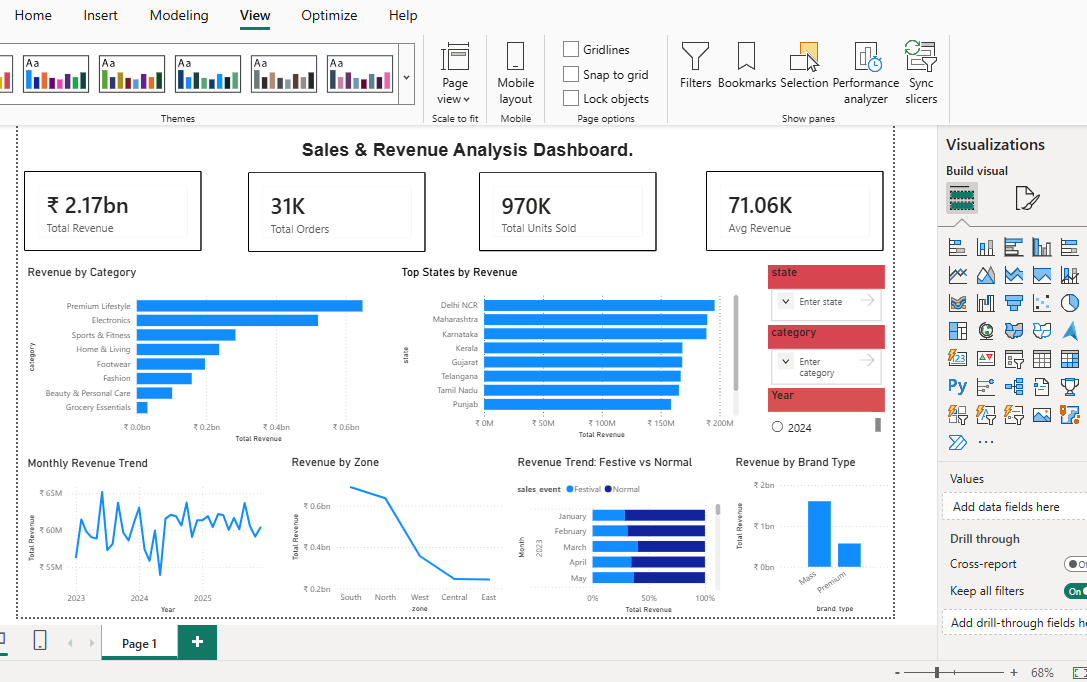

Layout of this report page (visuals, bound fields, positions):
{"tool":"powerbi","page":{"name":"Page 1","canvas":[1280,720],"ordinal":0},"visuals":[{"type":"cardVisual","fields":{"Data":["indian_ecommerce_pricing_revenue_growth_36_months.Total Revenue"]},"box":[8.6,67.3,260,117],"z":0},{"type":"cardVisual","fields":{"Data":["indian_ecommerce_pricing_revenue_growth_36_months.Total Orders"]},"box":[336.4,69,260.5,117.3],"z":1000},{"type":"cardVisual","fields":{"Data":["indian_ecommerce_pricing_revenue_growth_36_months.Total Units Sold"]},"box":[674.5,69,260.5,115.6],"z":2000},{"type":"cardVisual","fields":{"Data":["indian_ecommerce_pricing_revenue_growth_36_months.Average Revenue per Order"]},"box":[1007.4,67.3,260,117],"z":3000},{"type":"lineChart","title":"Monthly Revenue Trend","fields":{"Category":["indian_ecommerce_pricing_revenue_growth_36_months.order_date.Variation.Date Hierarchy.Year","indian_ecommerce_pricing_revenue_growth_36_months.order_date.Variation.Date Hierarchy.Month"],"Y":["indian_ecommerce_pricing_revenue_growth_36_months.Total Revenue"]},"box":[8.6,484.7,364,234.6],"z":4000},{"type":"clusteredBarChart","title":"Revenue by Category","fields":{"Category":["indian_ecommerce_pricing_revenue_growth_36_months.category"],"Y":["indian_ecommerce_pricing_revenue_growth_36_months.Total Revenue"]},"box":[8.6,205.3,546.8,263.9],"z":5000},{"type":"lineChart","title":"Revenue by Zone","fields":{"Category":["indian_ecommerce_pricing_revenue_growth_36_months.zone"],"Y":["indian_ecommerce_pricing_revenue_growth_36_months.Total Revenue"]},"box":[395,483,319.1,234.6],"z":6000},{"type":"clusteredBarChart","title":"Top States by Revenue","fields":{"Category":["indian_ecommerce_pricing_revenue_growth_36_months.state"],"Y":["indian_ecommerce_pricing_revenue_growth_36_months.Total Revenue"]},"box":[555.5,205.3,503.7,258.8],"z":7000},{"type":"lineStackedColumnComboChart","title":"Revenue by Brand Type","fields":{"Category":["indian_ecommerce_pricing_revenue_growth_36_months.brand_type"],"Y":["indian_ecommerce_pricing_revenue_growth_36_months.Total Revenue"]},"box":[1045.4,483,234.6,234.6],"z":8000},{"type":"hundredPercentStackedBarChart","title":"Revenue Trend: Festive vs Normal","fields":{"Category":["indian_ecommerce_pricing_revenue_growth_36_months.order_date.Variation.Date Hierarchy.Year","indian_ecommerce_pricing_revenue_growth_36_months.order_date.Variation.Date Hierarchy.Month"],"Y":["indian_ecommerce_pricing_revenue_growth_36_months.Total Revenue"],"Series":["indian_ecommerce_pricing_revenue_growth_36_months.sales_event"]},"box":[726.3,483,307.4,236.9],"z":9000},{"type":"textbox","box":[324.3,15.5,665.9,53.5],"z":10000},{"type":"textSlicer","fields":{"Values":["indian_ecommerce_pricing_revenue_growth_36_months.category"]},"box":[1096.9,292.3,171.3,92.4],"z":11000},{"type":"textSlicer","fields":{"Values":["indian_ecommerce_pricing_revenue_growth_36_months.state"]},"box":[1096.9,204.9,171.3,87.3],"z":12000},{"type":"listSlicer","fields":{"Values":["indian_ecommerce_pricing_revenue_growth_36_months.order_date.Variation.Date Hierarchy.Year"]},"box":[1097.1,384.7,170.8,79.4],"z":13000}]}

Visuals, with their boxes on the page's 1280x720 design canvas (x1, y1, x2, y2). These are canvas units, not pixel positions in the 1087x682 screenshot, which may show the page scaled, cropped or inside an application window:
cardVisual - indian_ecommerce_pricing_revenue_growth_36_months.Total Revenue: x1=9 y1=67 x2=269 y2=184
cardVisual - indian_ecommerce_pricing_revenue_growth_36_months.Total Orders: x1=336 y1=69 x2=597 y2=186
cardVisual - indian_ecommerce_pricing_revenue_growth_36_months.Total Units Sold: x1=674 y1=69 x2=935 y2=185
cardVisual - indian_ecommerce_pricing_revenue_growth_36_months.Average Revenue per Order: x1=1007 y1=67 x2=1267 y2=184
"Monthly Revenue Trend" lineChart: x1=9 y1=485 x2=373 y2=719
"Revenue by Category" clusteredBarChart: x1=9 y1=205 x2=555 y2=469
"Revenue by Zone" lineChart: x1=395 y1=483 x2=714 y2=718
"Top States by Revenue" clusteredBarChart: x1=556 y1=205 x2=1059 y2=464
"Revenue by Brand Type" lineStackedColumnComboChart: x1=1045 y1=483 x2=1280 y2=718
"Revenue Trend: Festive vs Normal" hundredPercentStackedBarChart: x1=726 y1=483 x2=1034 y2=720
textbox: x1=324 y1=16 x2=990 y2=69
textSlicer - indian_ecommerce_pricing_revenue_growth_36_months.category: x1=1097 y1=292 x2=1268 y2=385
textSlicer - indian_ecommerce_pricing_revenue_growth_36_months.state: x1=1097 y1=205 x2=1268 y2=292
listSlicer - indian_ecommerce_pricing_revenue_growth_36_months.order_date.Variation.Date Hierarchy.Year: x1=1097 y1=385 x2=1268 y2=464
